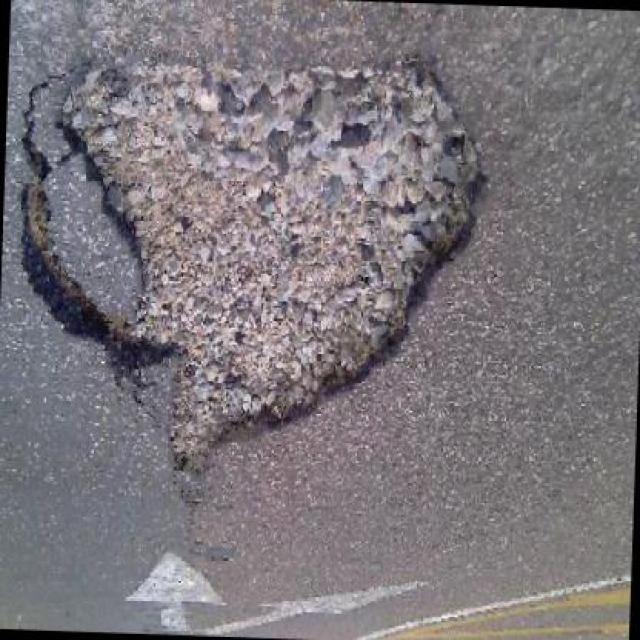pothole1: (7, 43, 498, 508)
